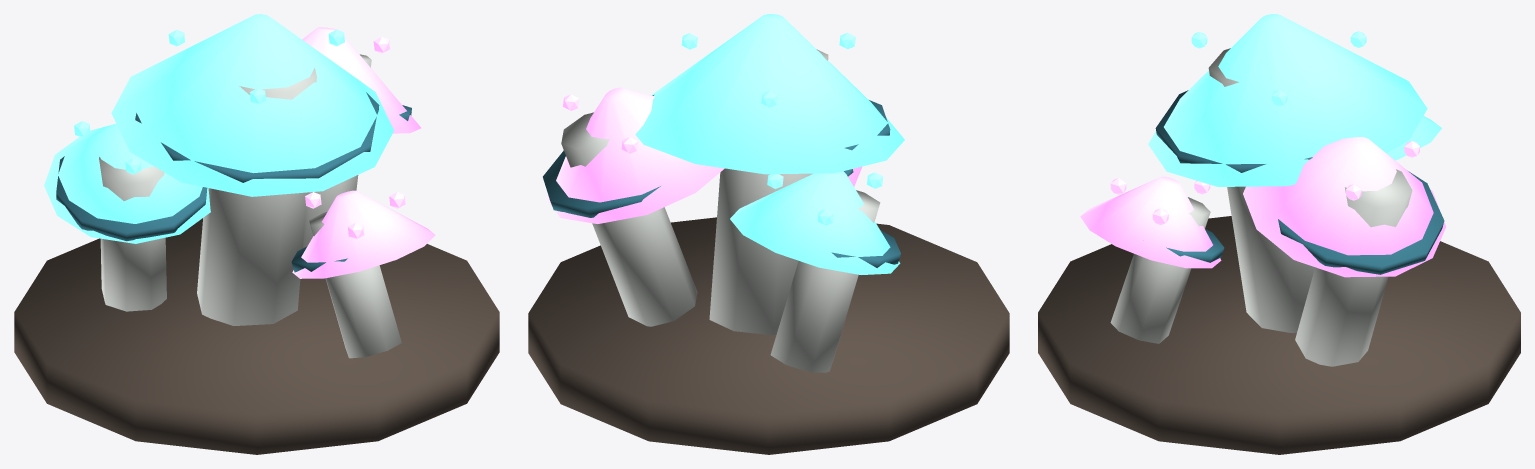
Rendered from elven_mushrooms_cluster.glb.
3 views of the same model, side by side, from view 1: azimuth 30°, elevation 25°; view 2: azimuth 150°, elevation 25°; view 3: azimuth 270°, elevation 25° (orthographic).
Parts seen in each view (by area): view 1: Cylinder, Cone, Cylinder.001, Cone.002, Cone.003, Cylinder.005, Cylinder.007, Cone.001, Cylinder.006, Cylinder.002, Cylinder.003; view 2: Cylinder, Cone, Cone.001, Cone.002, Cylinder.003, Cylinder.001, Cylinder.005, Cylinder.004, Cylinder.006; view 3: Cylinder, Cone, Cone.001, Cylinder.003, Cone.003, Cylinder.001, Cylinder.007, Cylinder.004, Cylinder.002, Cone.002, Cylinder.008.
Part boxes in pixels (<box>): Cylinder: <box>14,218,499,454</box>; Cone: <box>111,14,393,196</box>; Cylinder.001: <box>197,68,316,325</box>; Cone.002: <box>44,123,210,243</box>; Cone.003: <box>292,190,435,278</box>; Cylinder.005: <box>99,157,166,311</box>; Cylinder.007: <box>309,212,401,358</box>; Cone.001: <box>302,27,421,133</box>; Cylinder.006: <box>56,156,207,241</box>; Cylinder.002: <box>135,92,379,182</box>; Cylinder.003: <box>303,54,371,248</box>; Cylinder: <box>528,217,1009,454</box>; Cone: <box>635,14,904,174</box>; Cone.001: <box>545,87,724,223</box>; Cone.002: <box>730,171,900,274</box>; Cylinder.003: <box>561,112,697,326</box>; Cylinder.001: <box>709,49,828,335</box>; Cylinder.005: <box>770,190,880,372</box>; Cylinder.004: <box>543,150,660,217</box>; Cylinder.006: <box>831,230,900,267</box>; Cylinder: <box>1038,216,1520,454</box>; Cone: <box>1148,14,1427,186</box>; Cone.001: <box>1243,137,1446,277</box>; Cylinder.003: <box>1295,169,1412,366</box>; Cone.003: <box>1080,176,1221,268</box>; Cylinder.001: <box>1208,48,1314,333</box>; Cylinder.007: <box>1110,197,1210,343</box>; Cylinder.004: <box>1278,171,1444,274</box>; Cylinder.002: <box>1155,90,1312,172</box>; Cone.002: <box>1386,116,1441,160</box>; Cylinder.008: <box>1166,229,1224,262</box>.
Bounding box in the file's own units: 1.3 × 0.9966 × 1.3.
